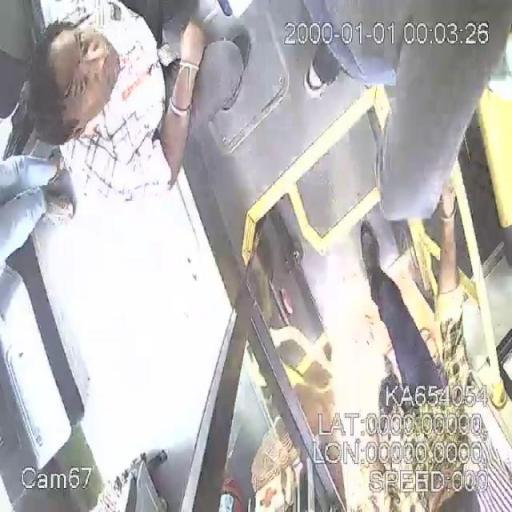persona: (354, 179, 500, 512), (2, 0, 214, 202)
